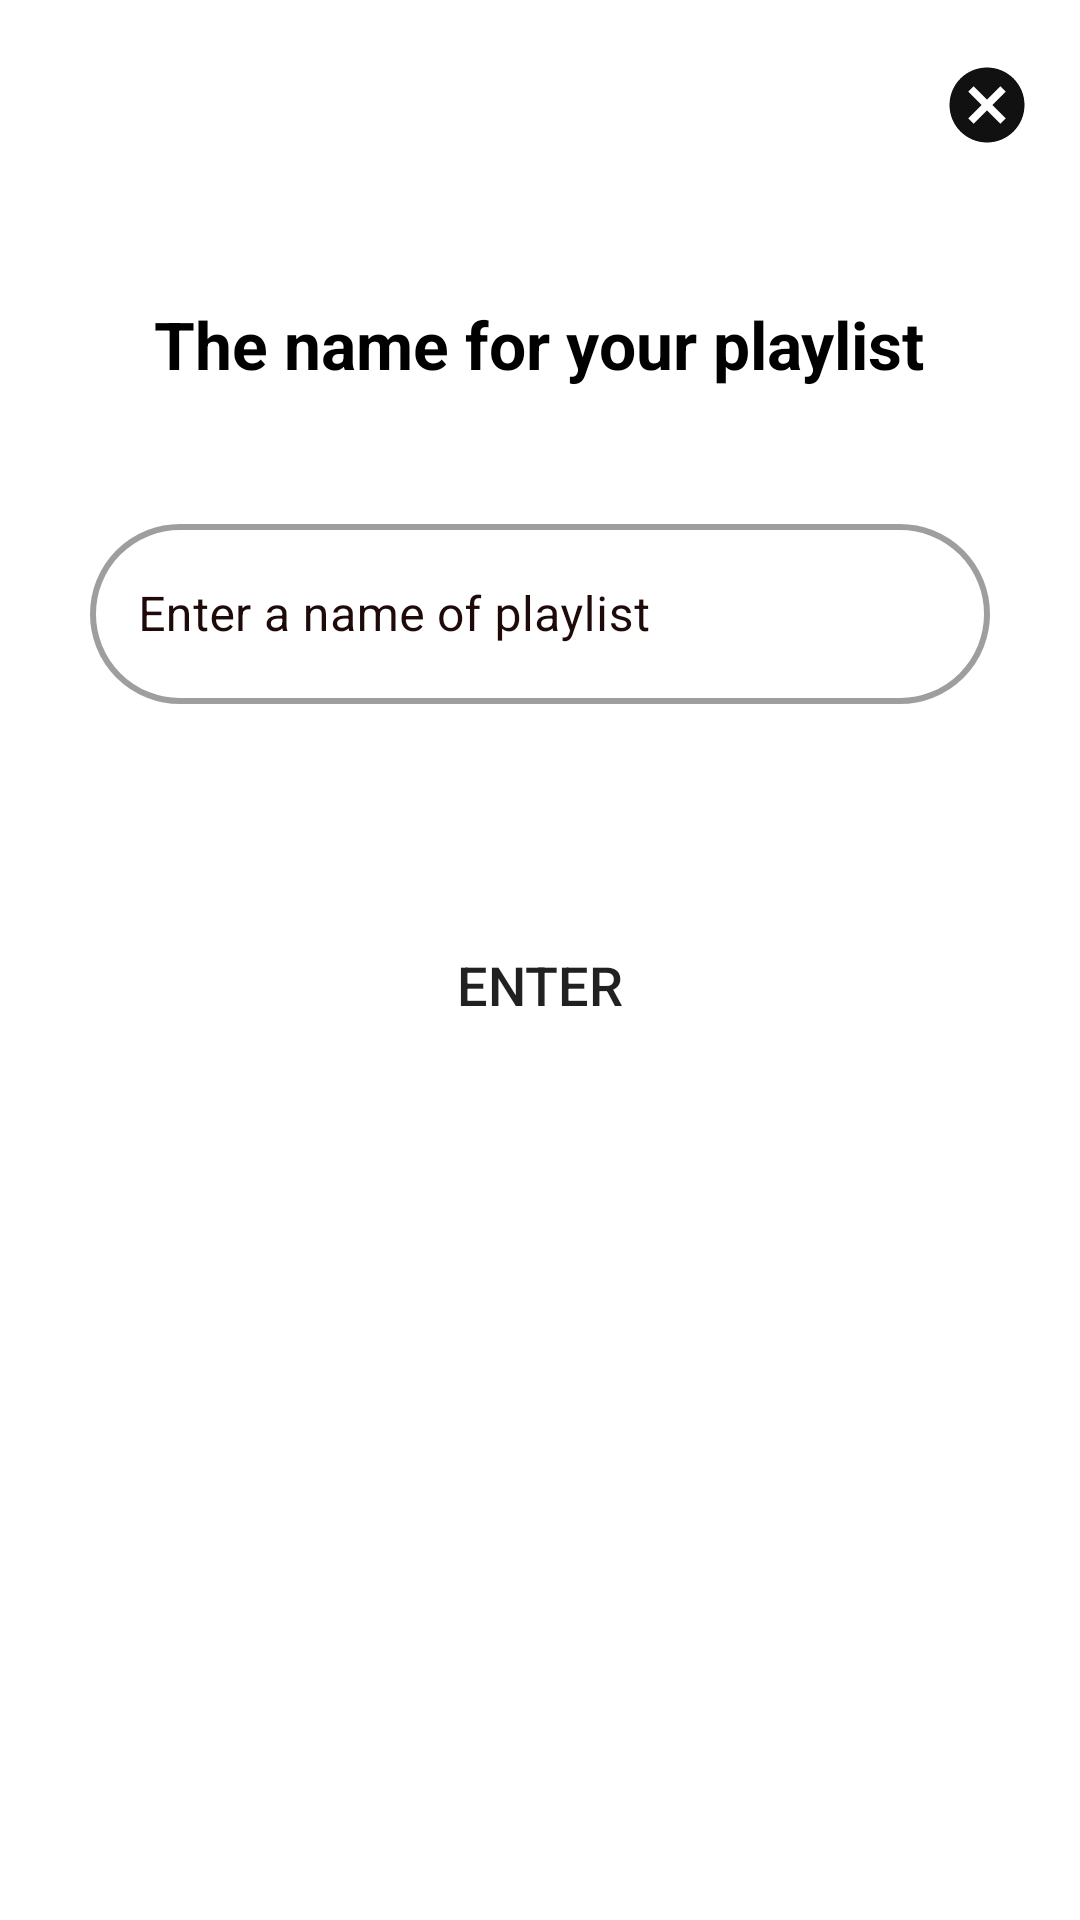

Icons on this 1080px x 1920px Android screen, each with its box as BBox(x1, y1, x2, y2):
cancel: BBox(949, 67, 1025, 143)
